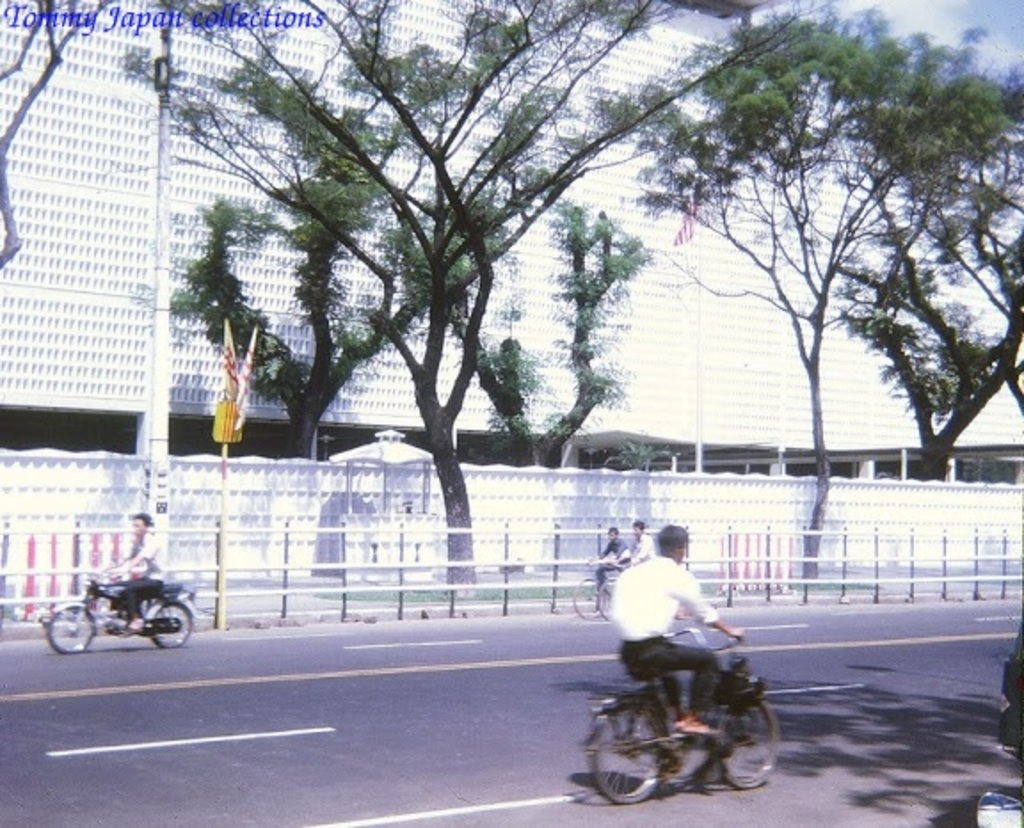Bike: (586, 623, 787, 803)
